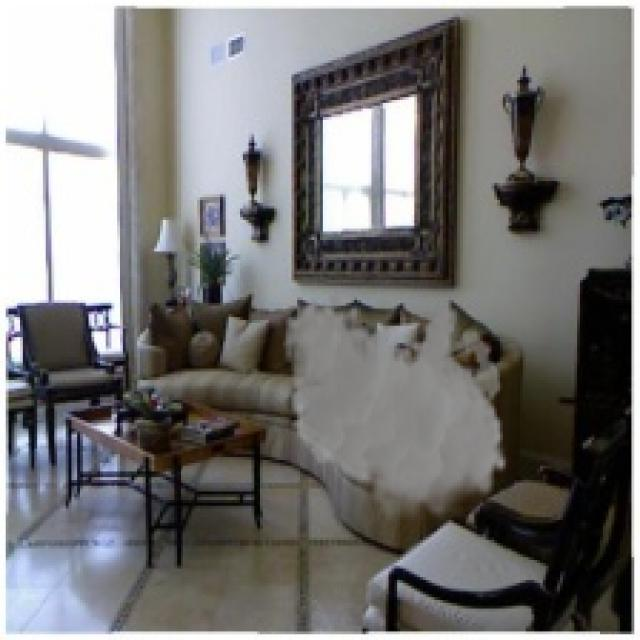Smoke: (283, 292, 508, 528)
